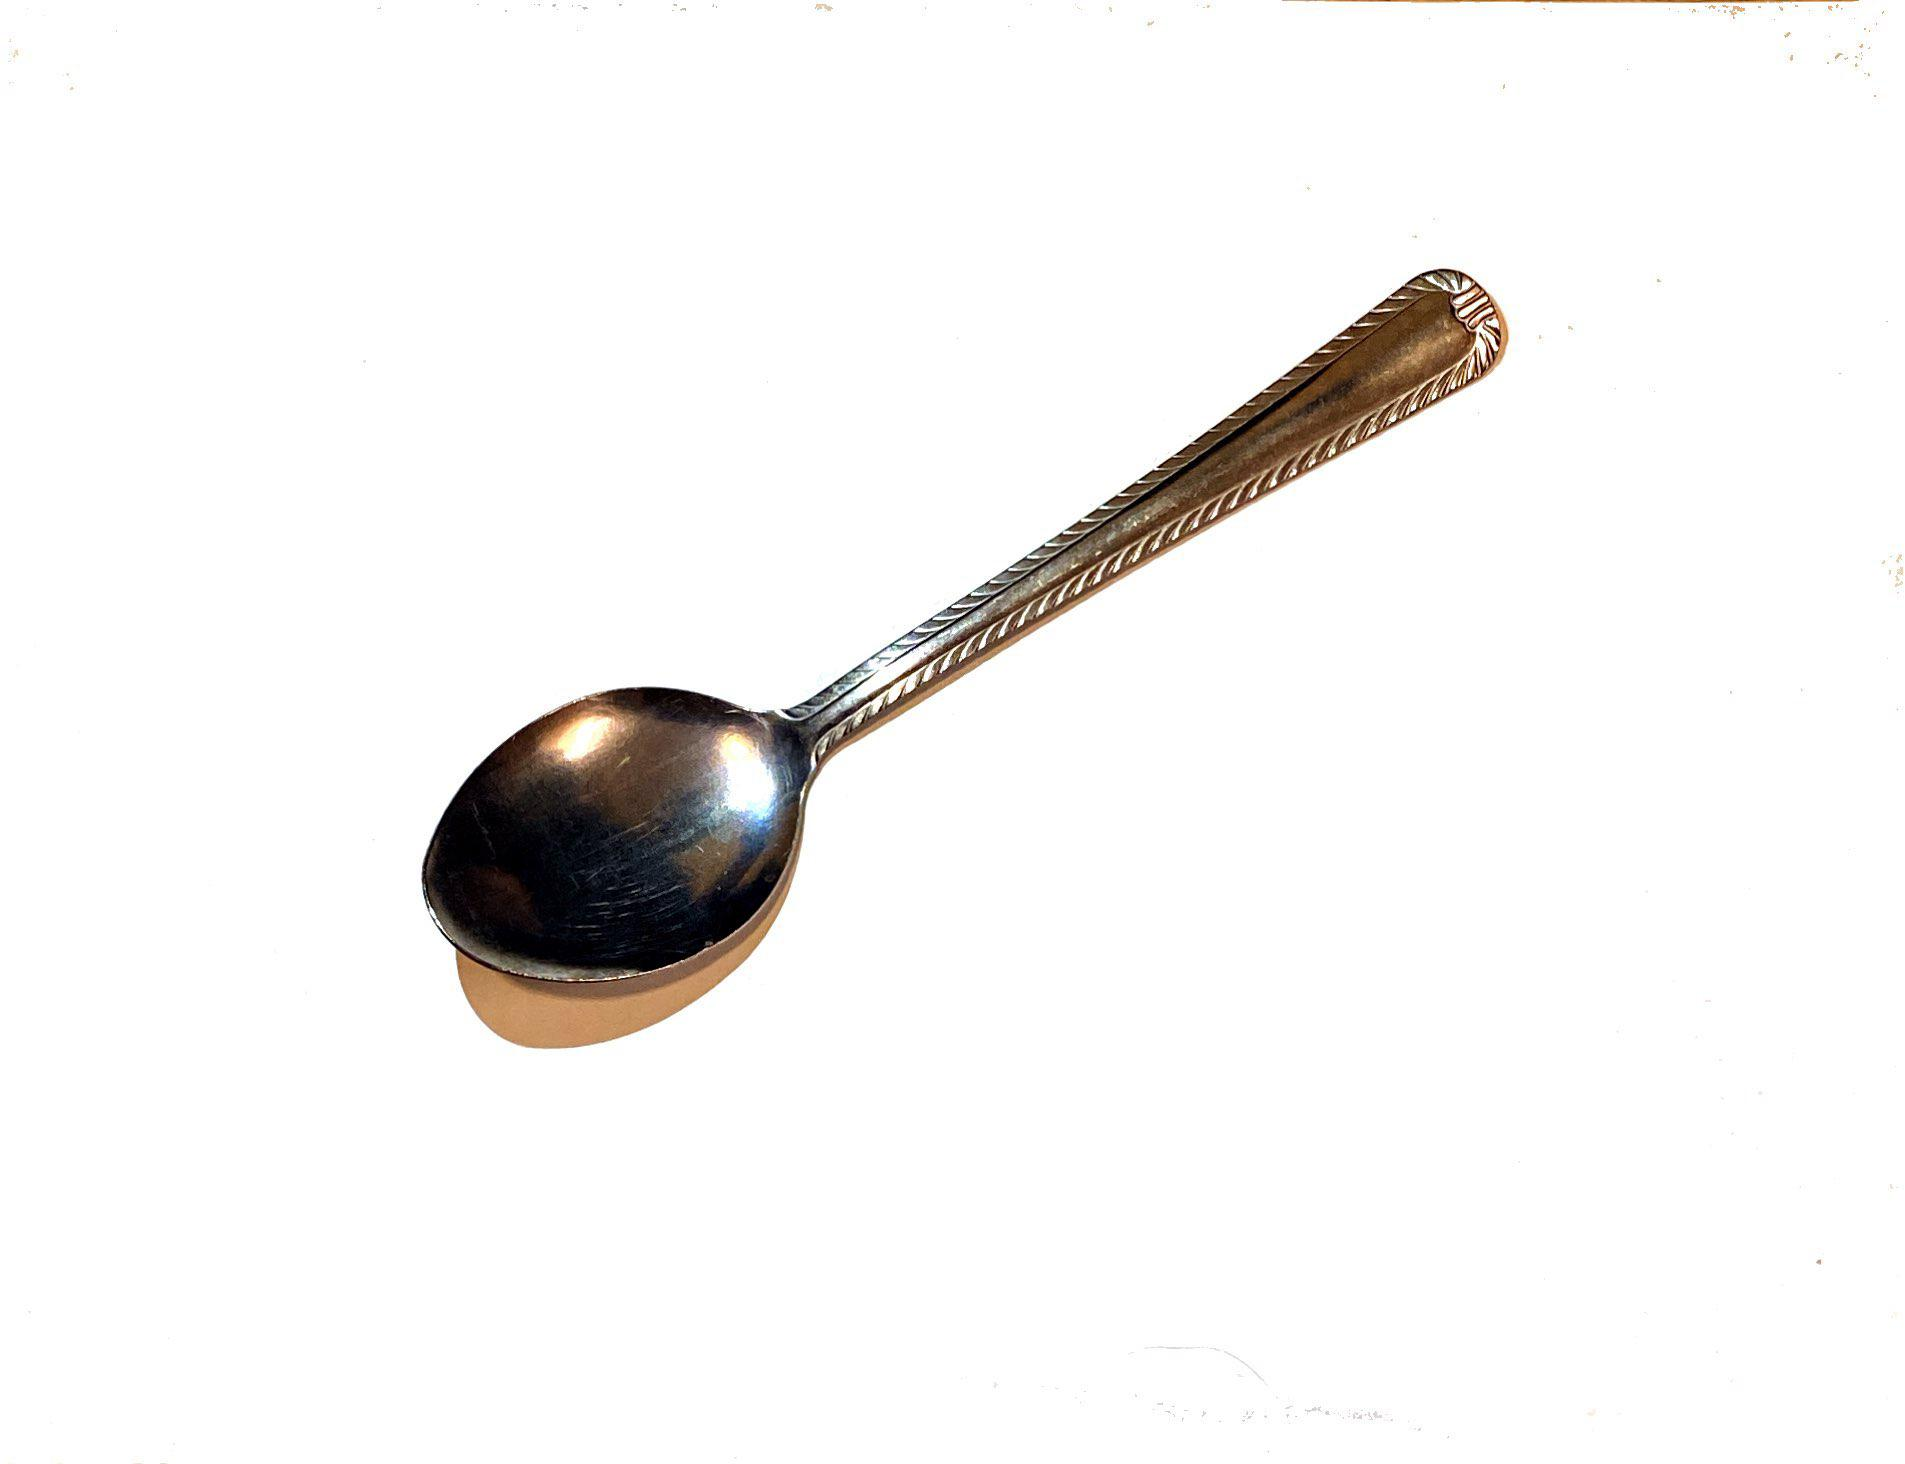Spoon: (181, 181, 1601, 1113)
